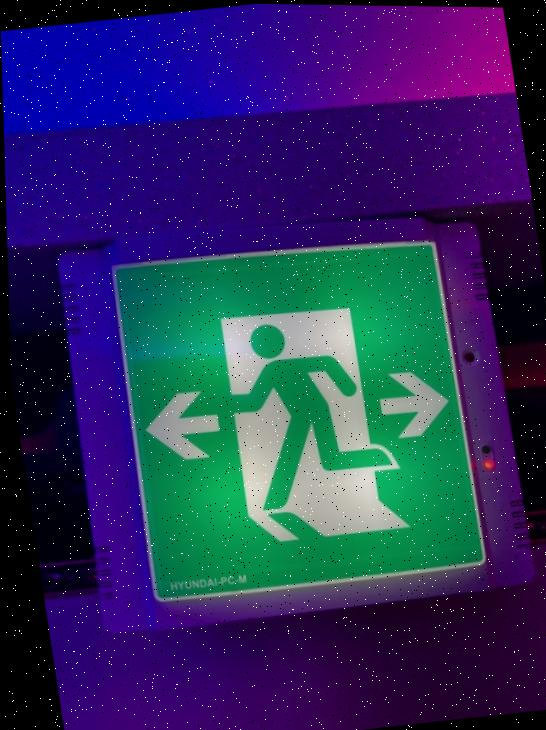emergency_exit: (2, 2, 544, 728), (110, 234, 489, 608)
